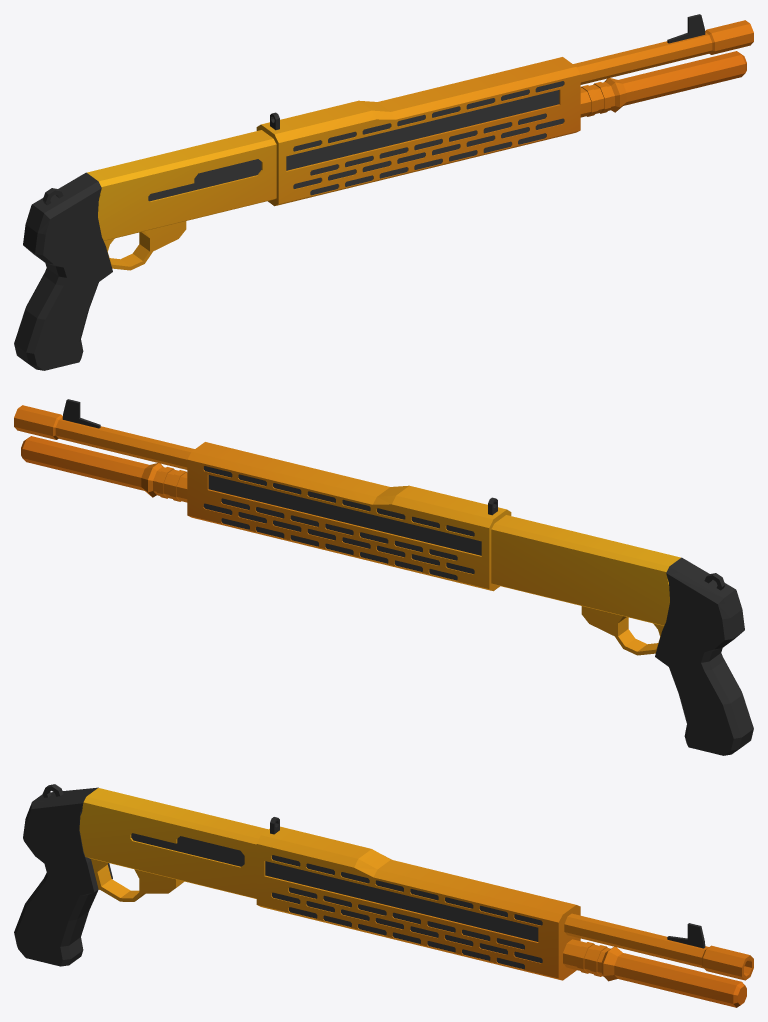
File: Shotgun5_06.fbx
3 renders of one model, top to bottom at view 1: azimuth 30°, elevation 25°; view 2: azimuth 150°, elevation 25°; view 3: azimuth 330°, elevation 25°, orthographic.
Parts seen in each view (by area): view 1: Shotgun5_06; view 2: Shotgun5_06; view 3: Shotgun5_06.
Part boxes in pixels (bbox=[...]): Shotgun5_06: bbox=[14, 14, 753, 370]; Shotgun5_06: bbox=[14, 399, 753, 755]; Shotgun5_06: bbox=[14, 784, 753, 1007].
Size of the model in its own units: 0.8358 by 0.2102 by 0.0437.
